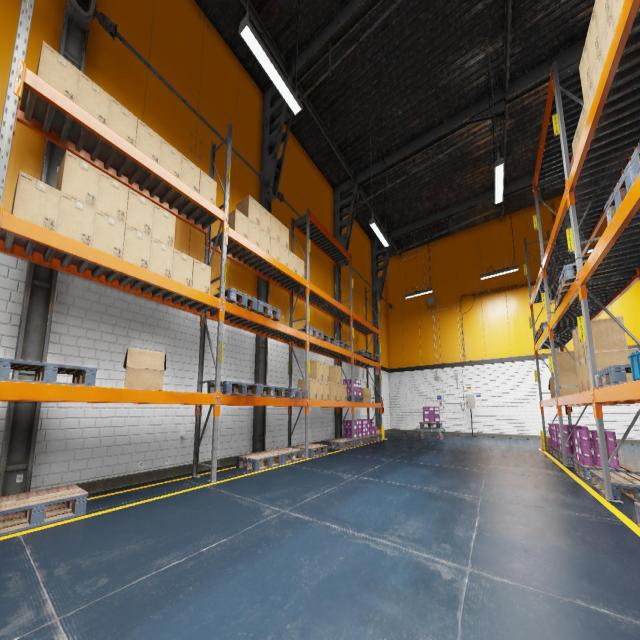box: (11, 170, 61, 232), (36, 41, 79, 102), (56, 150, 100, 209), (586, 348, 639, 390), (576, 316, 628, 358), (56, 192, 95, 246), (76, 71, 110, 126), (123, 348, 166, 390), (95, 171, 128, 223), (92, 210, 125, 258), (108, 96, 137, 146), (125, 188, 154, 236), (122, 225, 151, 269), (135, 118, 161, 164), (151, 203, 176, 248), (586, 6, 600, 76), (159, 137, 182, 179), (149, 238, 173, 278), (172, 248, 193, 287), (600, 10, 614, 65), (180, 154, 200, 192), (579, 40, 591, 102), (236, 195, 260, 226), (594, 0, 610, 44), (192, 258, 211, 294), (550, 351, 576, 376), (199, 170, 217, 205), (228, 208, 248, 238), (592, 47, 604, 95), (558, 373, 579, 396), (584, 78, 594, 120), (611, 0, 624, 30), (298, 379, 316, 399), (305, 360, 323, 380), (577, 103, 586, 142), (581, 356, 590, 391), (248, 218, 259, 246), (260, 204, 270, 234), (259, 228, 270, 254), (572, 327, 580, 362), (270, 214, 280, 242), (576, 360, 584, 392), (270, 236, 280, 261), (280, 222, 289, 249), (572, 126, 579, 160), (329, 365, 341, 383), (280, 243, 288, 267), (288, 250, 296, 272), (297, 256, 304, 278), (361, 388, 371, 402), (329, 382, 336, 401), (323, 362, 329, 381), (323, 381, 329, 400), (317, 380, 323, 399), (336, 382, 342, 400), (549, 377, 554, 398), (552, 376, 556, 398), (342, 384, 346, 401), (549, 380, 551, 398), (610, 0, 613, 8)
pallets: (0, 484, 88, 536), (0, 357, 97, 385), (604, 160, 635, 225), (590, 470, 640, 502), (573, 459, 640, 481), (213, 287, 257, 312), (558, 259, 587, 294), (594, 364, 634, 389), (236, 452, 282, 471), (207, 380, 260, 396), (264, 447, 304, 464), (247, 301, 280, 321), (555, 281, 574, 308), (294, 443, 328, 458), (252, 385, 284, 397), (631, 141, 640, 180), (298, 327, 324, 340), (326, 438, 354, 450), (277, 388, 308, 398), (552, 446, 573, 459), (558, 450, 574, 466), (343, 436, 366, 446), (318, 334, 336, 346), (350, 350, 372, 359), (331, 340, 348, 350), (538, 321, 548, 337), (634, 502, 640, 527), (419, 422, 442, 428), (362, 435, 374, 443), (347, 396, 363, 402), (370, 434, 382, 441), (370, 353, 379, 362), (534, 330, 540, 343), (547, 443, 553, 455), (554, 306, 557, 312)
